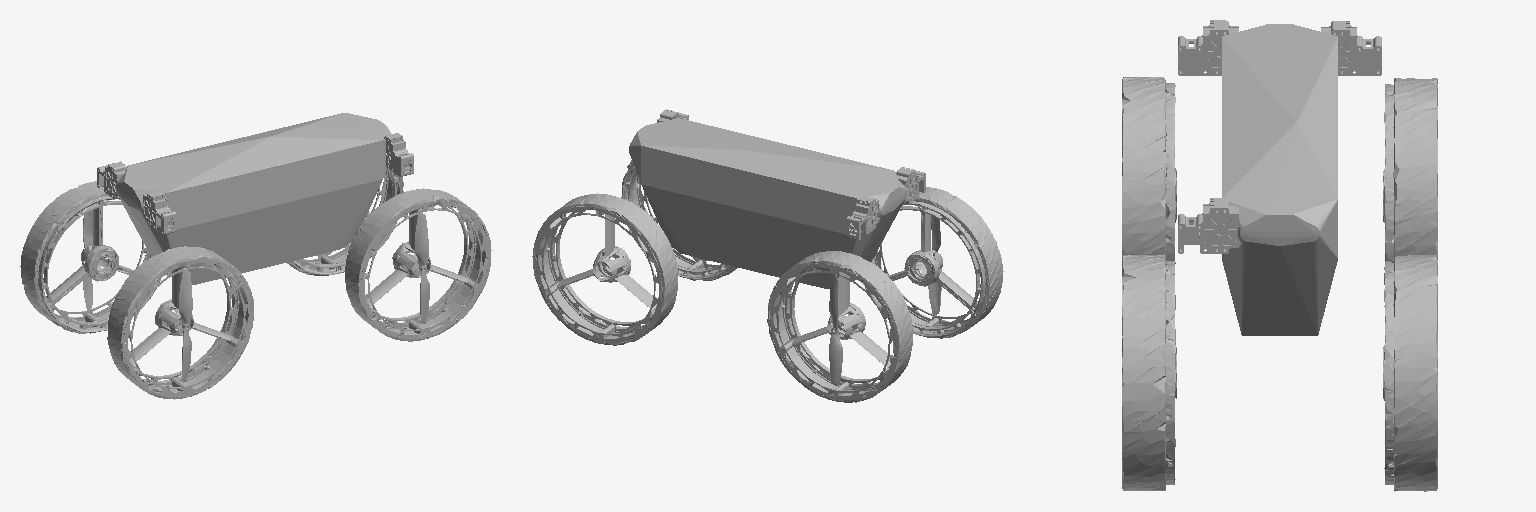
--- Render facts (derived) ---
3 views of the same robot in one strip: view 1: azimuth 30°, elevation 25°; view 2: azimuth 150°, elevation 25°; view 3: azimuth 270°, elevation 25° (orthographic).
Robot: m4assembly — 22 links, 21 joints (10 revolute, 4 continuous, 7 fixed); root link base_link; default pose: all joints at 0.
Links seen in each view (by area): view 1: base_link, rear_right_wheel, front_right_wheel, rear_left_wheel, front_left_wheel, front_right_blade, rear_right_blade, rear_right_hip, front_right_hip, rear_left_hip, rear_left_blade; view 2: base_link, front_left_wheel, rear_left_wheel, rear_right_wheel, front_right_wheel, rear_left_blade, rear_left_hip, rear_right_hip, rear_right_blade; view 3: base_link, front_right_wheel, front_left_wheel, rear_right_wheel, rear_left_wheel, front_right_hip, rear_right_hip, rear_left_hip.
Boxes of the visible links, <box> form: base_link: <box>115,113,390,284</box>; rear_right_wheel: <box>107,246,253,399</box>; front_right_wheel: <box>345,188,491,341</box>; rear_left_wheel: <box>20,181,160,333</box>; front_left_wheel: <box>287,168,403,275</box>; front_right_blade: <box>415,213,429,323</box>; rear_right_blade: <box>179,270,192,381</box>; rear_right_hip: <box>143,191,175,234</box>; front_right_hip: <box>384,133,413,176</box>; rear_left_hip: <box>97,161,126,197</box>; rear_left_blade: <box>83,205,92,311</box>; base_link: <box>629,118,906,288</box>; front_left_wheel: <box>532,193,677,345</box>; rear_left_wheel: <box>767,251,912,402</box>; rear_right_wheel: <box>865,187,1003,338</box>; front_right_wheel: <box>621,160,737,280</box>; rear_left_blade: <box>829,274,842,386</box>; rear_left_hip: <box>846,196,879,239</box>; rear_right_hip: <box>896,167,925,203</box>; rear_right_blade: <box>928,210,941,314</box>; base_link: <box>1222,24,1337,335</box>; front_right_wheel: <box>1122,255,1176,490</box>; front_left_wheel: <box>1383,255,1437,491</box>; rear_right_wheel: <box>1122,77,1176,260</box>; rear_left_wheel: <box>1383,78,1437,306</box>; front_right_hip: <box>1178,198,1241,253</box>; rear_right_hip: <box>1178,20,1238,75</box>; rear_left_hip: <box>1321,21,1381,75</box>.
Size in the robot's own frame: 0.6978 by 0.335 by 0.3336 metres.
Meshes: 18 distinct files referenced, 11 mesh visuals loaded (11 binary STL); not drawn: 7 (reference not matched to a file when rendering).

URDF robot description (m4assembly):
<?xml version="1.0" encoding="utf-8"?>

<robot name="m4assembly">
  <joint name="m4/ground_truth/odometry_sensorgt_joint" type="revolute">
    <parent link="base_link"/>
    <child link="m4/ground_truth/odometry_sensorgt_link"/>
    <origin xyz="0      0      0.19492" rpy="0 0 0"/>
    <axis xyz="0 0 1"/>
    <limit lower="0.0" upper="0.0" effort="0.0" velocity="0.0"/>
  </joint>
  <joint name="m4/imu_joint" type="revolute">
    <parent link="base_link"/>
    <child link="m4/imu_link"/>
    <origin xyz="0      0      0.19492" rpy="0 0 0"/>
    <axis xyz="0 0 1"/>
    <limit lower="0.0" upper="0.0" effort="0.0" velocity="0.0"/>
  </joint>
  <link name="m4/ground_truth/odometry_sensorgt_link">
    <inertial>
      <mass value="0.001"/>
      <origin xyz="0 0 0" rpy="0 0 0"/>
      <inertia ixx="0.0001" ixy="0" ixz="0" iyy="0.0002" iyz="0" izz="0.0002"/>
    </inertial>
  </link>
  <link name="m4/imu_link">
   <inertial>
      <mass value="0.001"/>
      <origin xyz="0 0 0" rpy="0 0 0"/>
      <inertia ixx="0.00001" ixy="0" ixz="0" iyy="0.00002" iyz="0" izz="0.00002"/>
   </inertial>
  </link>
  <link
    name="base_link">
    <inertial>
      <origin
        xyz="0.00014012 -1.2866E-05 -0.067235"
        rpy="0 0 0" />
      <mass
        value="1.054" />
      <inertia
        ixx="0.00066925"
        ixy="-1.7138E-07"
        ixz="8.4179E-07"
        iyy="0.0060916"
        iyz="-5.4732E-08"
        izz="0.006372" />
    </inertial>
    <visual>
      <origin
        xyz="0 0 0"
        rpy="0 0 0" />
      <geometry>
        <mesh
          filename="package://m4assembly/meshes/base_link.STL" />
      </geometry>
      <material
        name="">
        <color
          rgba="0.75294 0.75294 0.75294 1" />
      </material>
    </visual>
    <collision>
      <origin
        xyz="0 0 0"
        rpy="0 0 0" />
      <geometry>
        <mesh
          filename="package://m4assembly/meshes/col/base_link.STL" />
      </geometry>
    </collision>
  </link>
  <link
    name="rear_left_hip">
    <inertial>
      <origin
        xyz="0.032048263261567 0.00148857273521091 0.000801285389170403"
        rpy="0 0 0" />
      <mass
        value="0.0631744337027232" />
      <inertia
        ixx="1.00187470871694E-05"
        ixy="1.26346518144828E-06"
        ixz="-1.71088892144535E-13"
        iyy="1.47423630145446E-05"
        iyz="-3.33426314544602E-14"
        izz="2.18314090226691E-05" />
    </inertial>
    <visual>
      <origin
        xyz="0 0 0"
        rpy="0 0 0" />
      <geometry>
        <mesh
          filename="package://m4assembly/meshes/rear_left_hip.STL" />
      </geometry>
      <material
        name="">
        <color
          rgba="0.752941176470588 0.752941176470588 0.752941176470588 1" />
      </material>
    </visual>
    <collision>
      <origin
        xyz="0 0 0"
        rpy="0 0 0" />
      <geometry>
        <mesh
          filename="package://m4assembly/meshes/col/rear_left_hip.STL" />
      </geometry>
    </collision>
  </link>
  <joint
    name="rear_left_hip_joint"
    type="revolute">
    <origin
      xyz="-0.2231 0.0323 -0.02605"
      rpy="1.5708 0 1.5708" />
    <parent
      link="base_link" />
    <child
      link="rear_left_hip" />
    <axis
      xyz="0 0 1" />
    <limit
      lower="0"
      upper="1.5708"
      effort="10000"
      velocity="1.57" />
  </joint>
  <link
    name="rear_left_leg">
    <inertial>
      <origin
        xyz="-3.41455978458693E-06 0.0865094820933296 -0.00425258484840052"
        rpy="0 0 0" />
      <mass
        value="0.208886814057311" />
      <inertia
        ixx="7.70084638154863E-05"
        ixy="9.13752456418355E-09"
        ixz="3.41558069671286E-07"
        iyy="5.22430908180149E-05"
        iyz="-3.49227338347394E-08"
        izz="5.21652155907927E-05" />
    </inertial>
    <visual>
      <origin
        xyz="0 0 0"
        rpy="0 0 0" />
      <geometry>
        <mesh
          filename="package://m4assembly/meshes/rear_left_leg.STL" />
      </geometry>
      <material
        name="">
        <color
          rgba="0.752941176470588 0.752941176470588 0.752941176470588 1" />
      </material>
    </visual>
    <collision>
      <origin
        xyz="0 0 0"
        rpy="0 0 0" />
      <geometry>
        <mesh
          filename="package://m4assembly/meshes/col/rear_left_leg.STL" />
      </geometry>
    </collision>
  </link>
  <joint
    name="rear_left_leg_joint"
    type="fixed">
    <origin
      xyz="0.0611 -0.006895 -5E-05"
      rpy="1.5708 -1.5526 1.5708" />
    <parent
      link="rear_left_hip" />
    <child
      link="rear_left_leg" />
    <axis
      xyz="0 0 -1" />
  </joint>
  <link
    name="rear_left_wheel">
    <inertial>
      <origin
        xyz="-1.2835011736767E-06 2.34490590667047E-07 -0.0298825868697071"
        rpy="0 0 0" />
      <mass
        value="0.447367748033206" />
      <inertia
        ixx="0.00104268899323013"
        ixy="-3.91603340525233E-08"
        ixz="3.60415118706037E-11"
        iyy="0.00104263881447407"
        iyz="-3.26123864995785E-11"
        izz="0.00200352361648073" />
    </inertial>
    <visual>
      <origin
        xyz="0 0 0"
        rpy="0 0 0" />
      <geometry>
        <mesh
          filename="package://m4assembly/meshes/rear_left_wheel.STL" />
      </geometry>
      <material
        name="">
        <color
          rgba="0.752941176470588 0.752941176470588 0.752941176470588 1" />
      </material>
    </visual>
    <collision>
      <origin
        xyz="0 0 0"
        rpy="0 0 0" />
      <geometry>
        <mesh
          filename="package://m4assembly/meshes/col/rear_left_wheel.STL" />
      </geometry>
    </collision>
  </link>
  <joint
    name="rear_left_wheel_joint"
    type="continuous">
    <origin
      xyz="0 0.162 0.011129"
      rpy="-3.1416 0 0.018227" />
    <parent
      link="rear_left_leg" />
    <child
      link="rear_left_wheel" />
    <axis
      xyz="0 0 -1" />
    <limit
      effort="200"
      velocity="200" />
  </joint>
  <link
    name="rear_left_blade">
    <inertial>
      <origin
        xyz="0 0 0.0082946342231609"
        rpy="0 0 0" />
      <mass
        value="0.00610274937825579" />
      <inertia ixx="9.75e-06" ixy="0" ixz="0" iyy="0.000166704" iyz="0" izz="0.000167604"/>
    </inertial>
    <visual>
      <origin
        xyz="0 0 0"
        rpy="0 0 0" />
      <geometry>
        <mesh
          filename="package://m4assembly/meshes/rear_left_blade.STL" />
      </geometry>
      <material
        name="">
        <color
          rgba="0.752941176470588 0.752941176470588 0.752941176470588 1" />
      </material>
    </visual>
    <collision>
      <origin
        xyz="0 0 0"
        rpy="0 0 0" />
      <geometry>
        <cylinder radius="0.1" length="0.005"/>
      </geometry>
    </collision>
  </link>
  <joint
    name="rear_left_blade_joint"
    type="revolute">
    <origin
      xyz="0 0.162 0.061129"
      rpy="-0.0099006 0 0.018227" />
    <parent
      link="rear_left_leg" />
    <child
      link="rear_left_blade" />
    <axis
      xyz="0 -0.0099004 0.99995" />
    <limit lower="-1e+16" upper="1e+16" effort="10000" velocity="10000"/>
  </joint>
  <link
    name="rear_right_hip">
    <inertial>
      <origin
        xyz="0.0320482634870919 0.00148857274187802 -0.000820989548367512"
        rpy="0 0 0" />
      <mass
        value="0.0631744341018766" />
      <inertia
        ixx="1.00187470810585E-05"
        ixy="1.26346518895748E-06"
        ixz="-1.58209935155058E-13"
        iyy="1.47423629783338E-05"
        iyz="-2.99342928986296E-14"
        izz="2.18314089935792E-05" />
    </inertial>
    <visual>
      <origin
        xyz="0 0 0"
        rpy="0 0 0" />
      <geometry>
        <mesh
          filename="package://m4assembly/meshes/rear_right_hip.STL" />
      </geometry>
      <material
        name="">
        <color
          rgba="0.752941176470588 0.752941176470588 0.752941176470588 1" />
      </material>
    </visual>
    <collision>
      <origin
        xyz="0 0 0"
        rpy="0 0 0" />
      <geometry>
        <mesh
          filename="package://m4assembly/meshes/col/rear_right_hip.STL" />
      </geometry>
    </collision>
  </link>
  <joint
    name="rear_right_hip_joint"
    type="revolute">
    <origin
      xyz="-0.2235 -0.0323 -0.02605"
      rpy="1.5708 0 -1.5708" />
    <parent
      link="base_link" />
    <child
      link="rear_right_hip" />
    <axis
      xyz="0 0 1" />
    <limit
      lower="0"
      upper="1.5708"
      effort="10000"
      velocity="1.57" />
  </joint>
  <link
    name="rear_right_leg">
    <inertial>
      <origin
        xyz="3.41455156416259E-06 0.0865094821571721 0.00425258483326613"
        rpy="0 0 0" />
      <mass
        value="0.208886814304404" />
      <inertia
        ixx="7.70084638389827E-05"
        ixy="-9.13752631729426E-09"
        ixz="3.41558058672973E-07"
        iyy="5.22430908411789E-05"
        iyz="3.49227166953638E-08"
        izz="5.21652156031499E-05" />
    </inertial>
    <visual>
      <origin
        xyz="0 0 0"
        rpy="0 0 0" />
      <geometry>
        <mesh
          filename="package://m4assembly/meshes/rear_right_leg.STL" />
      </geometry>
      <material
        name="">
        <color
          rgba="0.752941176470588 0.752941176470588 0.752941176470588 1" />
      </material>
    </visual>
    <collision>
      <origin
        xyz="0 0 0"
        rpy="0 0 0" />
      <geometry>
        <mesh
          filename="package://m4assembly/meshes/col/rear_right_leg.STL" />
      </geometry>
    </collision>
  </link>
  <joint
    name="rear_right_leg_joint"
    type="fixed">
    <origin
      xyz="0.0611 -0.006895 0"
      rpy="3.1416 1.5708 0" />
    <parent
      link="rear_right_hip" />
    <child
      link="rear_right_leg" />
    <axis
      xyz="0 0 1" />
  </joint>
  <link
    name="rear_right_wheel">
    <inertial>
      <origin
        xyz="-1.78659846361562E-08 -2.01874887645337E-06 0.0255799203790625"
        rpy="0 0 0" />
      <mass
        value="0.447367750743676" />
      <inertia
        ixx="0.0010426206896193"
        ixy="-2.73561891555305E-10"
        ixz="3.48030847023143E-11"
        iyy="0.00104270712224184"
        iyz="3.22928670574781E-11"
        izz="0.00200352362095162" />
    </inertial>
    <visual>
      <origin
        xyz="0 0 0"
        rpy="0 0 0" />
      <geometry>
        <mesh
          filename="package://m4assembly/meshes/rear_right_wheel.STL" />
      </geometry>
      <material
        name="">
        <color
          rgba="0.752941176470588 0.752941176470588 0.752941176470588 1" />
      </material>
    </visual>
    <collision>
      <origin
        xyz="0 0 0"
        rpy="0 0 0" />
      <geometry>
        <mesh
          filename="package://m4assembly/meshes/col/rear_right_wheel.STL" />
      </geometry>
    </collision>
  </link>
  <joint
    name="rear_right_wheel_joint"
    type="continuous">
    <origin
      xyz="0 0.162 -0.015431"
      rpy="3.1416 0 0" />
    <parent
      link="rear_right_leg" />
    <child
      link="rear_right_wheel" />
    <axis
      xyz="0 0 -1" />
    <limit
      effort="200"
      velocity="200" />
  </joint>
  <link
    name="rear_right_blade">
    <inertial>
      <origin
        xyz="0 0 0.00399237045178649"
        rpy="0 0 0" />
      <mass
        value="0.00610270077025495" />
      <inertia ixx="9.75e-06" ixy="0" ixz="0" iyy="0.000166704" iyz="0" izz="0.000167604"/>
    </inertial>
    <visual>
      <origin
        xyz="0 0 0"
        rpy="0 0 0" />
      <geometry>
        <mesh
          filename="package://m4assembly/meshes/rear_right_blade.STL" />
      </geometry>
      <material
        name="">
        <color
          rgba="0.752941176470588 0.752941176470588 0.752941176470588 1" />
      </material>
    </visual>
    <collision>
      <origin
        xyz="0 0 0"
        rpy="0 0 0" />
      <geometry>
        <mesh
          filename="package://m4assembly/meshes/col/rear_right_blade.STL" />
      </geometry>
    </collision>
  </link>
  <joint
    name="rear_right_blade_joint"
    type="revolute">
    <origin
      xyz="0 0.162 -0.065431"
      rpy="3.1416 0 0" />
    <parent
      link="rear_right_leg" />
    <child
      link="rear_right_blade" />
    <axis
      xyz="0 0 1" />
    <limit lower="-1e+16" upper="1e+16" effort="10000" velocity="10000"/>  
  </joint>
  <link
    name="front_left_hip">
    <inertial>
      <origin
        xyz="0.0320482633471696 0.00148857273674285 0.00169341200883941"
        rpy="0 0 0" />
      <mass
        value="0.0631744338743183" />
      <inertia
        ixx="1.00187470896772E-05"
        ixy="1.26346518496343E-06"
        ixz="-1.75127210359815E-13"
        iyy="1.474236301921E-05"
        iyz="-3.22758580937248E-14"
        izz="2.18314090243211E-05" />
    </inertial>
    <visual>
      <origin
        xyz="0 0 0"
        rpy="0 0 0" />
      <geometry>
        <mesh
          filename="package://m4assembly/meshes/front_left_hip.STL" />
      </geometry>
      <material
        name="">
        <color
          rgba="0.752941176470588 0.752941176470588 0.752941176470588 1" />
      </material>
    </visual>
    <collision>
      <origin
        xyz="0 0 0"
        rpy="0 0 0" />
      <geometry>
        <mesh
          filename="package://m4assembly/meshes/col/front_left_hip.STL" />
      </geometry>
    </collision>
  </link>
  <joint
    name="front_left_hip_joint"
    type="revolute">
    <origin
      xyz="0.22099 0.0323 -0.02605"
      rpy="1.5708 0 1.5708" />
    <parent
      link="base_link" />
    <child
      link="front_left_hip" />
    <axis
      xyz="0 0 1" />
    <limit
      lower="0"
      upper="1.5708"
      effort="10000"
      velocity="1.57" />
  </joint>
  <link
    name="front_left_leg">
    <inertial>
      <origin
        xyz="-3.41455576607095E-06 0.0865094821265606 -0.00425258483916741"
        rpy="0 0 0" />
      <mass
        value="0.208886814202469" />
      <inertia
        ixx="7.70084638282559E-05"
        ixy="9.13752541336675E-09"
        ixz="3.41558064254658E-07"
        iyy="5.22430908306995E-05"
        iyz="-3.49227240782923E-08"
        izz="5.21652155975951E-05" />
    </inertial>
    <visual>
      <origin
        xyz="0 0 0"
        rpy="0 0 0" />
      <geometry>
        <mesh
          filename="package://m4assembly/meshes/front_left_leg.STL" />
      </geometry>
      <material
        name="">
        <color
          rgba="0.752941176470588 0.752941176470588 0.752941176470588 1" />
      </material>
    </visual>
    <collision>
      <origin
        xyz="0 0 0"
        rpy="0 0 0" />
      <geometry>
        <mesh
          filename="package://m4assembly/meshes/col/front_left_leg.STL" />
      </geometry>
    </collision>
  </link>
  <joint
    name="front_left_leg_joint"
    type="fixed">
    <origin
      xyz="0.0611 -0.006895 0.0025144"
      rpy="-1.5708 -1.5708 -1.5708" />
    <parent
      link="front_left_hip" />
    <child
      link="front_left_leg" />
    <axis
      xyz="0 0 -1" />
  </joint>
  <link
    name="front_left_wheel">
    <inertial>
      <origin
        xyz="1.77235233511999E-08 -2.01879895370127E-06 -0.0284894545323338"
        rpy="0 0 0" />
      <mass
        value="0.447367750292981" />
      <inertia
        ixx="0.00104262069065618"
        ixy="2.74220212176939E-10"
        ixz="3.54050122778484E-11"
        iyy="0.00104270712119543"
        iyz="-3.25695335683767E-11"
        izz="0.00200352362063109" />
    </inertial>
    <visual>
      <origin
        xyz="0 0 0"
        rpy="0 0 0" />
      <geometry>
        <mesh
          filename="package://m4assembly/meshes/front_left_wheel.STL" />
      </geometry>
      <material
        name="">
        <color
          rgba="0.752941176470588 0.752941176470588 0.752941176470588 1" />
      </material>
    </visual>
    <collision>
      <origin
        xyz="0 0 0"
        rpy="0 0 0" />
      <geometry>
        <mesh
          filename="package://m4assembly/meshes/col/front_left_wheel.STL" />
      </geometry>
    </collision>
  </link>
  <joint
    name="front_left_wheel_joint"
    type="continuous">
    <origin
      xyz="0 0.162 0.012522"
      rpy="3.1416 0 0" />
    <parent
      link="front_left_leg" />
    <child
      link="front_left_wheel" />
    <axis
      xyz="0 0 -1" />
    <limit
      effort="200"
      velocity="200" />
  </joint>
  <link
    name="front_left_blade">
    <inertial>
      <origin
        xyz="0 0 0.0069019562259629"
        rpy="0 0 0" />
      <mass
        value="0.0061028301426362" />
      <inertia ixx="9.75e-06" ixy="0" ixz="0" iyy="0.000166704" iyz="0" izz="0.000167604"/>
    </inertial>
    <visual>
      <origin
        xyz="0 0 0"
        rpy="0 0 0" />
      <geometry>
        <mesh
          filename="package://m4assembly/meshes/front_left_blade.STL" />
      </geometry>
      <material
        name="">
        <color
          rgba="0.752941176470588 0.752941176470588 0.752941176470588 1" />
      </material>
    </visual>
    <collision>
      <origin
        xyz="0 0 0"
        rpy="0 0 0" />
      <geometry>
        <mesh
          filename="package://m4assembly/meshes/col/front_left_blade.STL" />
      </geometry>
    </collision>
  </link>
  <joint
    name="front_left_blade_joint"
    type="revolute">
    <origin
      xyz="0 0.162 0.062522"
      rpy="0 0 0" />
    <parent
      link="front_left_leg" />
    <child
      link="front_left_blade" />
    <axis
      xyz="0 0 1" />
    <limit lower="-1e+16" upper="1e+16" effort="10000" velocity="10000"/>
  </joint>
  <link
    name="front_right_hip">
    <inertial>
      <origin
        xyz="0.0320482634665248 0.0014885727412563 -0.00131311618414334"
        rpy="0 0 0" />
      <mass
        value="0.0631744340641276" />
      <inertia
        ixx="1.00187470815544E-05"
        ixy="1.26346518823477E-06"
        ixz="-1.57692513882067E-13"
        iyy="1.47423629788781E-05"
        iyz="-2.96148209881054E-14"
        izz="2.18314089943886E-05" />
    </inertial>
    <visual>
      <origin
        xyz="0 0 0"
        rpy="0 0 0" />
      <geometry>
        <mesh
          filename="package://m4assembly/meshes/front_right_hip.STL" />
      </geometry>
      <material
        name="">
        <color
          rgba="0.752941176470588 0.752941176470588 0.752941176470588 1" />
      </material>
    </visual>
    <collision>
      <origin
        xyz="0 0 0"
        rpy="0 0 0" />
      <geometry>
        <mesh
          filename="package://m4assembly/meshes/col/front_right_hip.STL" />
      </geometry>
    </collision>
  </link>
  <joint
    name="front_right_hip_joint"
    type="revolute">
    <origin
      xyz="0.22099 -0.0323 -0.02605"
      rpy="1.5708 0 -1.5708" />
    <parent
      link="base_link" />
    <child
      link="front_right_hip" />
    <axis
      xyz="0 0 1" />
    <limit
      lower="0"
      upper="1.5708"
      effort="10000"
      velocity="1.57" />
  </joint>
  <link
    name="front_right_leg">
    <inertial>
      <origin
        xyz="3.41455365766163E-06 0.0865094821436897 0.00425258483703411"
        rpy="0 0 0" />
      <mass
        value="0.208886814244098" />
      <inertia
        ixx="7.70084638339796E-05"
        ixy="-9.13752605384622E-09"
        ixz="3.4155806167583E-07"
        iyy="5.2243090836002E-05"
        iyz="3.49227209398553E-08"
        izz="5.21652156003534E-05" />
    </inertial>
    <visual>
      <origin
        xyz="0 0 0"
        rpy="0 0 0" />
      <geometry>
        <mesh
          filename="package://m4assembly/meshes/front_right_leg.STL" />
      </geometry>
      <material
        name="">
        <color
          rgba="0.752941176470588 0.752941176470588 0.752941176470588 1" />
      </material>
    </visual>
    <collision>
      <origin
        xyz="0 0 0"
        rpy="0 0 0" />
      <geometry>
        <mesh
          filename="package://m4assembly/meshes/col/front_right_leg.STL" />
      </geometry>
    </collision>
  </link>
  <joint
    name="front_right_leg_joint"
    type="fixed">
    <origin
      xyz="0.0611 -0.006895 -0.0021644"
      rpy="1.5708 1.5656 -1.5708" />
    <parent
      link="front_right_hip" />
    <child
      link="front_right_leg" />
    <axis
      xyz="0 0 1" />
    <limit
      lower="-0.5"
      upper="0.5"
      effort="10.5"
      velocity="1.57" />
  </joint>
  <link
    name="front_right_wheel">
    <inertial>
      <origin
        xyz="1.28310223720821E-06 2.3448596928044E-07 0.0255837574129385"
        rpy="0 0 0" />
      <mass
        value="0.447367750640603" />
      <inertia
        ixx="0.00104268899474349"
        ixy="3.91619025865096E-08"
        ixz="3.50659148166867E-11"
        iyy="0.00104263881744075"
        iyz="3.24293757397963E-11"
        izz="0.00200352362110246" />
    </inertial>
    <visual>
      <origin
        xyz="0 0 0"
        rpy="0 0 0" />
      <geometry>
        <mesh
          filename="package://m4assembly/meshes/front_right_wheel.STL" />
      </geometry>
      <material
        name="">
        <color
          rgba="0.752941176470588 0.752941176470588 0.752941176470588 1" />
      </material>
    </visual>
    <collision>
      <origin
        xyz="0 0 0"
        rpy="0 0 0" />
      <geometry>
        <mesh
          filename="package://m4assembly/meshes/col/front_right_wheel.STL" />
      </geometry>
    </collision>
  </link>
  <joint
    name="front_right_wheel_joint"
    type="continuous">
    <origin
      xyz="0 0.162 -0.015427"
      rpy="-3.1416 0 -0.0052077" />
    <parent
      link="front_right_leg" />
    <child
      link="front_right_wheel" />
    <axis
      xyz="0 0 -1" />
    <limit
      effort="200"
      velocity="200" />
  </joint>
  <link
    name="front_right_blade">
    <inertial>
      <origin
        xyz="0 0 0.0039962219905107"
        rpy="0 0 0" />
      <mass
        value="0.00610290216434297" />
      <inertia ixx="9.75e-06" ixy="0" ixz="0" iyy="0.000166704" iyz="0" izz="0.000167604"/>
    </inertial>
    <visual>
      <origin
        xyz="0 0 0"
        rpy="0 0 0" />
      <geometry>
        <mesh
          filename="package://m4assembly/meshes/front_right_blade.STL" />
      </geometry>
      <material
        name="">
        <color
          rgba="0.752941176470588 0.752941176470588 0.752941176470588 1" />
      </material>
    </visual>
    <collision>
      <origin
        xyz="0 0 0"
        rpy="0 0 0" />
      <geometry>
        <mesh
          filename="package://m4assembly/meshes/col/front_right_blade.STL" />
      </geometry>
    </collision>
  </link>
  <joint
    name="front_right_blade_joint"
    type="revolute">
    <origin
      xyz="0 0.162 -0.065427"
      rpy="-3.1416 0 -0.0052077" />
    <parent
      link="front_right_leg" />
    <child
      link="front_right_blade" />
    <axis
      xyz="0 0 1" />
    <limit lower="-1e+16" upper="1e+16" effort="10000" velocity="10000"/>
  </joint>

    <link name="front_realsense" />

  <!--
    The gazebo plugin aligns the depth data with the Z axis, with X=left and Y=up
    ROS expects the depth data along the X axis, with Y=left and Z=up
    This link only exists to give the gazebo plugin the correctly-oriented frame
  -->
  <link name="front_realsense_gazebo" />
  <joint name="front_realsense_gazebo_joint" type="fixed">
    <parent link="front_realsense"/>
    <child link="front_realsense_gazebo"/>
    <origin xyz="0.0 0 0" rpy="-1.5707963267948966 0 -1.5707963267948966"/>
  </joint>

  <gazebo reference="front_realsense">
    <turnGravityOff>true</turnGravityOff>
    <sensor type="depth" name="front_realsense_depth">
      <update_rate>30</update_rate>
      <camera>
        <!-- 75x65 degree FOV for the depth sensor -->
        <horizontal_fov>1.5184351666666667</horizontal_fov>
        <vertical_fov>1.0122901111111111</vertical_fov>

        <image>
          <width>640</width>
          <height>480</height>
          <format>RGB8</format>
        </image>
        <clip>
          <!-- give the color sensor a maximum range of 50m so that the simulation renders nicely -->
          <near>0.01</near>
          <far>50.0</far>
        </clip>
      </camera>
      <plugin name="kinect_controller" filename="libgazebo_ros_openni_kinect.so">
        <baseline>0.2</baseline>
        <alwaysOn>true</alwaysOn>
        <updateRate>30</updateRate>
        <cameraName>realsense</cameraName>
        <imageTopicName>color/image_raw</imageTopicName>
        <cameraInfoTopicName>color/camera_info</cameraInfoTopicName>
        <depthImageTopicName>depth/image_rect_raw</depthImageTopicName>
        <depthImageInfoTopicName>depth/camera_info</depthImageInfoTopicName>
        <pointCloudTopicName>depth/color/points</pointCloudTopicName>
        <frameName>front_realsense_gazebo</frameName>
        <pointCloudCutoff>0.105</pointCloudCutoff>
        <pointCloudCutoffMax>8.0</pointCloudCutoffMax>
        <distortionK1>0.00000001</distortionK1>
        <distortionK2>0.00000001</distortionK2>
        <distortionK3>0.00000001</distortionK3>
        <distortionT1>0.00000001</distortionT1>
        <distortionT2>0.00000001</distortionT2>
        <CxPrime>0</CxPrime>
        <Cx>0</Cx>
        <Cy>0</Cy>
        <focalLength>0</focalLength>
        <hackBaseline>0</hackBaseline>
      </plugin>
    </sensor>
  </gazebo>

  <link name="front_realsense_lens">
    <visual>
      <origin xyz="0.02 0 0" rpy="1.5707963267948966 0 1.5707963267948966" />
      <geometry>
        <mesh filename="package://realsense2_description/meshes/d435.dae" />
      </geometry>
      <material name="white" />
    </visual>
  </link>

  <joint type="fixed" name="front_realsense_lens_joint">
    <!-- Offset the camera 2cm backwards and 1cm up -->
    <origin xyz="0.24099 0 0" rpy="0 0 0" />
    <parent link="base_link" />
    <child link="front_realsense_lens" />
  </joint>
  <joint type="fixed" name="front_realsense_joint">
    <origin xyz="0.025 0 0" rpy="0 0 0" />
    <parent link="front_realsense_lens" />
    <child link="front_realsense" />
  </joint>

<!-- ROS Control plugin for Gazebo -->
  <gazebo>
    <plugin name="gazebo_ros_control" filename="libgazebo_ros_control.so">
      <robotNamespace>/m4assembly</robotNamespace>
    </plugin>
  </gazebo>

  <!-- transmission -->
  <transmission name="rl_hip_trans">
    <type>transmission_interface/SimpleTransmission</type>
    <actuator name="motor1">
      <mechanicalReduction>1</mechanicalReduction>
    </actuator>
    <joint name="rear_left_hip_joint">
      <hardwareInterface>hardware_interface/EffortJointInterface</hardwareInterface>
    </joint>
  </transmission>

  <transmission name="rl_wheel_trans">
    <type>transmission_interface/SimpleTransmission</type>
    <actuator name="motor3">
      <mechanicalReduction>1</mechanicalReduction>
    </actuator>
    <joint name="rear_left_wheel_joint">
      <hardwareInterface>hardware_interface/VelocityJointInterface</hardwareInterface>
    </joint>
  </transmission>

  <transmission name="rr_hip_trans">
    <type>transmission_interface/SimpleTransmission</type>
    <actuator name="motor5">
      <mechanicalReduction>1</mechanicalReduction>
    </actuator>
    <joint name="rear_right_hip_joint">
      <hardwareInterface>hardware_interface/EffortJointInterface</hardwareInterface>
    </joint>
  </transmission>

  <transmission name="rr_wheel_trans">
    <type>transmission_interface/SimpleTransmission</type>
    <actuator name="motor7">
      <mechanicalReduction>1</mechanicalReduction>
    </actuator>
    <joint name="rear_right_wheel_joint">
      <hardwareInterface>hardware_interface/VelocityJointInterface</hardwareInterface>
    </joint>
  </transmission>

  <transmission name="fl_hip_trans">
    <type>transmission_interface/SimpleTransmission</type>
    <actuator name="motor9">
      <mechanicalReduction>1</mechanicalReduction>
    </actuator>
    <joint name="front_left_hip_joint">
      <hardwareInterface>hardware_interface/EffortJointInterface</hardwareInterface>
    </joint>
  </transmission>

  <transmission name="fl_wheel_trans">
    <type>transmission_interface/SimpleTransmission</type>
    <actuator name="motor11">
      <mechanicalReduction>1</mechanicalReduction>
    </actuator>
    <joint name="front_left_wheel_joint">
      <hardwareInterface>hardware_interface/VelocityJointInterface</hardwareInterface>
    </joint>
  </transmission>

  <transmission name="fr_hip_trans">
    <type>transmission_interface/SimpleTransmission</type>
    <actuator name="motor13">
      <mechanicalReduction>1</mechanicalReduction>
    </actuator>
    <joint name="front_right_hip_joint">
      <hardwareInterface>hardware_interface/EffortJointInterface</hardwareInterface>
    </joint>
  </transmission>

  <transmission name="fr_wheel_trans">
    <type>transmission_interface/SimpleTransmission</type>
    <actuator name="motor12">
      <mechanicalReduction>1</mechanicalReduction>
    </actuator>
    <joint name="front_right_wheel_joint">
      <hardwareInterface>hardware_interface/VelocityJointInterface</hardwareInterface>
    </joint>
  </transmission>
  

  <gazebo reference="m4/imu_link">
    <gravity>true</gravity>
    <sensor name="imu_sensor" type="imu">
      <always_on>true</always_on>
      <update_rate>1000</update_rate>
      <visualize>true</visualize>
      <topic>__default_topic__</topic>
      <plugin filename="libgazebo_ros_imu_sensor.so" name="imu_plugin">
        <topicName>imu_link</topicName>
        <bodyName>m4/imu_link</bodyName>
        <updateRateHZ>10.0</updateRateHZ>
        <gaussianNoise>0.0</gaussianNoise>
        <xyzOffset>0 0 0</xyzOffset>
        <rpyOffset>0 0 0</rpyOffset>
        <frameName>imu_link</frameName>
        <initialOrientationAsReference>false</initialOrientationAsReference>
      </plugin>
      <pose>0 0 0 3.141593 0 0</pose>
    </sensor>
  </gazebo>
  <gazebo>
    <plugin name="p3d_base_controller" filename="libgazebo_ros_p3d.so">
      <alwaysOn>true</alwaysOn>
      <updateRate>50.0</updateRate>
      <bodyName>base_link</bodyName>
      <topicName>ground_truth/state</topicName>
      <gaussianNoise>0.01</gaussianNoise>
      <frameName>world</frameName>
      <xyzOffsets>0 0 0</xyzOffsets>
      <rpyOffsets>0 0 0</rpyOffsets>
    </plugin>
    <plugin name="rotor_0_blade_1" filename="libLiftDragPlugin.so">
      <a0>0.3</a0>
      <alpha_stall>1.4</alpha_stall>
      <cla>4.2500</cla>
      <cda>0.10</cda>
      <cma>0.00</cma>
      <cla_stall>-0.025</cla_stall>
      <cda_stall>0.0</cda_stall>
      <cma_stall>0.0</cma_stall>
      <area>0.002</area>
      <air_density>1.2041</air_density>
      <cp>0.084 0 0</cp>
      <forward>0 1 0</forward>
      <upward>0 0 1</upward>
      <link_name>front_right_blade</link_name>
    </plugin>
    <plugin name="rotor_0_blade_2" filename="libLiftDragPlugin.so">
      <a0>0.3</a0>
      <alpha_stall>1.4</alpha_stall>
      <cla>4.2500</cla>
      <cda>0.10</cda>
      <cma>0.00</cma>
      <cla_stall>-0.025</cla_stall>
      <cda_stall>0.0</cda_stall>
      <cma_stall>0.0</cma_stall>
      <area>0.002</area>
      <air_density>1.2041</air_density>
      <cp>-0.084 0 0</cp>
      <forward>0 -1 0</forward>
      <upward>0 0 1</upward>
      <link_name>front_right_blade</link_name>
    </plugin>

    <plugin name="rotor_1_blade_1" filename="libLiftDragPlugin.so">
      <a0>0.3</a0>
      <alpha_stall>1.4</alpha_stall>
      <cla>4.2500</cla>
      <cda>0.10</cda>
      <cma>0.00</cma>
      <cla_stall>-0.025</cla_stall>
      <cda_stall>0.0</cda_stall>
      <cma_stall>0.0</cma_stall>
      <area>0.002</area>
      <air_density>1.2041</air_density>
      <cp>0.084 0 0</cp>
      <forward>0 1 0</forward>
      <upward>0 0 1</upward>
      <link_name>rear_left_blade</link_name>
    </plugin>
    <plugin name="rotor_1_blade_2" filename="libLiftDragPlugin.so">
      <a0>0.3</a0>
      <alpha_stall>1.4</alpha_stall>
      <cla>4.2500</cla>
      <cda>0.10</cda>
      <cma>0.00</cma>
      <cla_stall>-0.025</cla_stall>
      <cda_stall>0.0</cda_stall>
      <cma_stall>0.0</cma_stall>
      <area>0.002</area>
      <air_density>1.2041</air_density>
      <cp>-0.084 0 0</cp>
      <forward>0 -1 0</forward>
      <upward>0 0 1</upward>
      <link_name>rear_left_blade</link_name>
    </plugin>

    <plugin name="rotor_2_blade_1" filename="libLiftDragPlugin.so">
      <a0>0.3</a0>
      <alpha_stall>1.4</alpha_stall>
      <cla>4.2500</cla>
      <cda>0.10</cda>
      <cma>0.00</cma>
      <cla_stall>-0.025</cla_stall>
      <cda_stall>0.0</cda_stall>
      <cma_stall>0.0</cma_stall>
      <area>0.002</area>
      <air_density>1.2041</air_density>
      <cp>0.084 0 0</cp>
      <forward>0 -1 0</forward>
      <upward>0 0 1</upward>
      <link_name>front_left_blade</link_name>
    </plugin>
    <plugin name="rotor_2_blade_2" filename="libLiftDragPlugin.so">
      <a0>0.3</a0>
      <alpha_stall>1.4</alpha_stall>
      <cla>4.2500</cla>
      <cda>0.10</cda>
      <cma>0.00</cma>
      <cla_stall>-0.025</cla_stall>
      <cda_stall>0.0</cda_stall>
      <cma_stall>0.0</cma_stall>
      <area>0.002</area>
      <air_density>1.2041</air_density>
      <cp>-0.084 0 0</cp>
      <forward>0 1 0</forward>
      <upward>0 0 1</upward>
      <link_name>front_left_blade</link_name>
    </plugin>

    <plugin name="rotor_3_blade_1" filename="libLiftDragPlugin.so">
      <a0>0.3</a0>
      <alpha_stall>1.4</alpha_stall>
      <cla>4.2500</cla>
      <cda>0.10</cda>
      <cma>0.00</cma>
      <cla_stall>-0.025</cla_stall>
      <cda_stall>0.0</cda_stall>
      <cma_stall>0.0</cma_stall>
      <area>0.002</area>
      <air_density>1.2041</air_density>
      <cp>0.084 0 0</cp>
      <forward>0 -1 0</forward>
      <upward>0 0 1</upward>
      <link_name>rear_right_blade</link_name>
    </plugin>
    <plugin name="rotor_3_blade_2" filename="libLiftDragPlugin.so">
      <a0>0.3</a0>
      <alpha_stall>1.4</alpha_stall>
      <cla>4.2500</cla>
      <cda>0.10</cda>
      <cma>0.00</cma>
      <cla_stall>-0.025</cla_stall>
      <cda_stall>0.0</cda_stall>
      <cma_stall>0.0</cma_stall>
      <area>0.002</area>
      <air_density>1.2041</air_density>
      <cp>-0.084 0 0</cp>
      <forward>0 1 0</forward>
      <upward>0 0 1</upward>
      <link_name>rear_right_blade</link_name>
    </plugin>

    <plugin name="arducopter_plugin" filename="libArduPilotPlugin.so">
      <fdm_addr>127.0.0.1</fdm_addr>
      <fdm_port_in>9002</fdm_port_in>
      <fdm_port_out>9003</fdm_port_out>
      <!--
          Require by APM :
          Only change model and gazebo from XYZ to XY-Z coordinates
      -->
      <modelXYZToAirplaneXForwardZDown>0 0 0 3.141593 0 0</modelXYZToAirplaneXForwardZDown>
      <gazeboXYZToNED>0 0 0 3.141593 0 0</gazeboXYZToNED>
      <imuName>m4/imu_link::imu_sensor</imuName>
      <connectionTimeoutMaxCount>5</connectionTimeoutMaxCount>
      <control channel="0">
      <!--
          incoming control command [0, 1]
          so offset it by 0 to get [0, 1]
          and divide max target by 1.
          offset = 0
          multiplier = 838 max rpm / 1 = 838
        -->
        <type>VELOCITY</type>
        <offset>0</offset>
        <p_gain>0.2</p_gain>
        <i_gain>0</i_gain>
        <d_gain>0</d_gain>
        <i_max>0</i_max>
        <i_min>0</i_min>
        <cmd_max>2.5</cmd_max>
        <cmd_min>-2.5</cmd_min>
        <jointName>front_right_blade_joint</jointName>
        <multiplier>1898</multiplier>
        <controlVelocitySlowdownSim>1</controlVelocitySlowdownSim>
      </control>
      <control channel="1">
        <type>VELOCITY</type>
        <offset>0</offset>
        <p_gain>0.2</p_gain>
        <i_gain>0</i_gain>
        <d_gain>0</d_gain>
        <i_max>0</i_max>
        <i_min>0</i_min>
        <cmd_max>2.5</cmd_max>
        <cmd_min>-2.5</cmd_min>
        <jointName>rear_left_blade_joint</jointName>
        <multiplier>1898</multiplier>
        <controlVelocitySlowdownSim>1</controlVelocitySlowdownSim>
      </control>
      <control channel="2">
        <type>VELOCITY</type>
        <offset>0</offset>
        <p_gain>0.2</p_gain>
        <i_gain>0</i_gain>
        <d_gain>0</d_gain>
        <i_max>0</i_max>
        <i_min>0</i_min>
        <cmd_max>2.5</cmd_max>
        <cmd_min>-2.5</cmd_min>
        <jointName>front_left_blade_joint</jointName>
        <multiplier>-1898</multiplier>
        <controlVelocitySlowdownSim>1</controlVelocitySlowdownSim>
      </control>
      <control channel="3">
        <type>VELOCITY</type>
        <offset>0</offset>
        <p_gain>0.2</p_gain>
        <i_gain>0</i_gain>
        <d_gain>0</d_gain>
        <i_max>0</i_max>
        <i_min>0</i_min>
        <cmd_max>2.5</cmd_max>
        <cmd_min>-2.5</cmd_min>
        <jointName>rear_right_blade_joint</jointName>
        <multiplier>-1898</multiplier>
        <controlVelocitySlowdownSim>1</controlVelocitySlowdownSim>
      </control>
    </plugin>
  </gazebo>
</robot>
